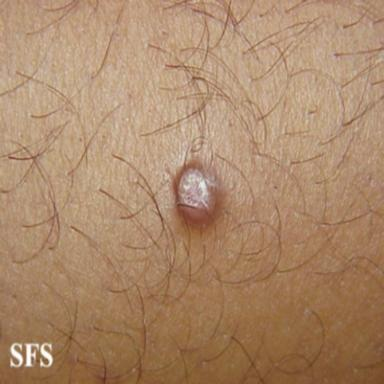Molluscum-Contagiosum: (175, 163, 223, 228)
